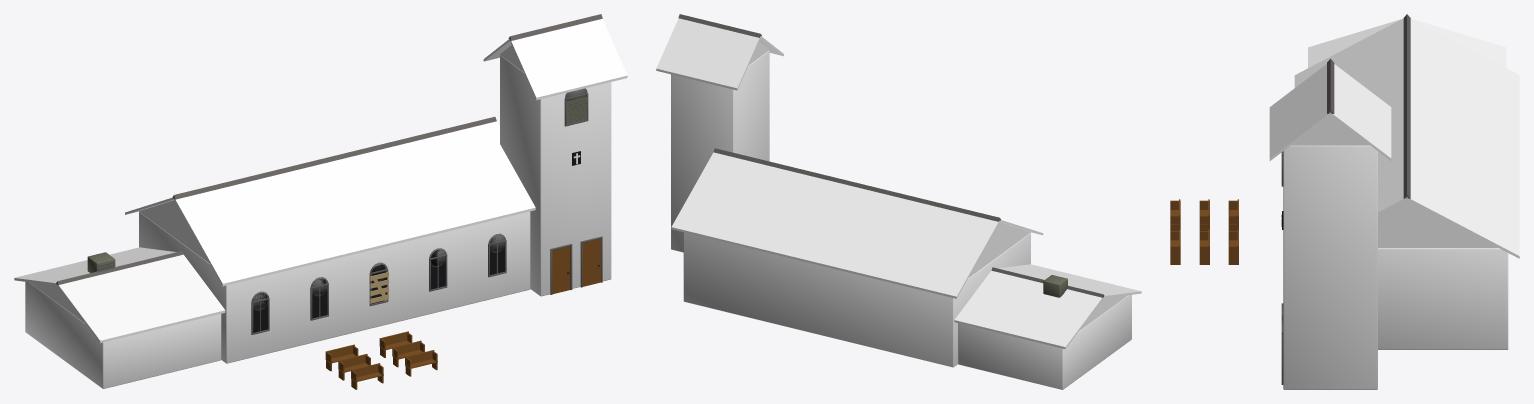
File: bld_church.glb
3 views of the same model, side by side, from view 1: azimuth 30°, elevation 25°; view 2: azimuth 150°, elevation 25°; view 3: azimuth 270°, elevation 25° (orthographic). The views are drawn at different scales.
Parts seen in each view (by area): view 1: ch_roof_front, ch_nave, ch_tower, ch_hall, ch_hroof_front, ch_tcap_front, ch_roof_cap, ch_hroof_back, ch_roof_gable, ch_door0, ch_door1, ch_hroof_cap (+2 smaller); view 2: ch_roof_back, ch_nave, ch_tower, ch_hall, ch_hroof_back, ch_tcap_back, ch_roof_cap, ch_hroof_front, ch_roof_gable, ch_cool, ch_tcap_cap; view 3: ch_tower, ch_roof_back, ch_nave, ch_roof_front, ch_roof_gable, ch_tcap_front, ch_tcap_back, ch_roof_cap, ch_tcap_gable, ch_hroof_back, ch_hroof_front, ch_tcap_cap.
Boxes of the visible parts, x1,y1,x2,y2 form: ch_roof_front: (174, 121, 535, 286); ch_nave: (139, 211, 530, 363); ch_tower: (500, 55, 611, 296); ch_hall: (25, 282, 221, 388); ch_hroof_front: (57, 254, 225, 343); ch_tcap_front: (510, 19, 627, 100); ch_roof_cap: (172, 116, 496, 199); ch_hroof_back: (14, 247, 176, 285); ch_roof_gable: (139, 200, 209, 263); ch_door0: (552, 246, 570, 294); ch_door1: (582, 238, 600, 286); ch_hroof_cap: (56, 251, 183, 285); ch_roof_back: (671, 152, 999, 298); ch_nave: (683, 232, 1030, 367); ch_tower: (671, 50, 769, 252); ch_hall: (958, 295, 1131, 389); ch_hroof_back: (954, 270, 1103, 349); ch_tcap_back: (656, 18, 760, 90); ch_roof_cap: (713, 148, 1000, 221); ch_hroof_front: (998, 264, 1141, 298); ch_roof_gable: (968, 222, 1030, 278); ch_cool: (1043, 275, 1067, 297); ch_tcap_cap: (678, 14, 761, 37); ch_tower: (1283, 145, 1377, 389); ch_roof_back: (1407, 18, 1519, 258); ch_nave: (1378, 248, 1508, 349); ch_roof_front: (1294, 18, 1406, 214); ch_roof_gable: (1378, 200, 1498, 248); ch_tcap_front: (1269, 64, 1330, 160); ch_tcap_back: (1330, 64, 1391, 160); ch_roof_cap: (1403, 14, 1410, 198); ch_tcap_gable: (1291, 115, 1369, 145); ch_hroof_back: (1413, 19, 1506, 67); ch_hroof_front: (1308, 19, 1401, 67); ch_tcap_cap: (1327, 58, 1334, 113).
Bounding box in the file's own units: 30.2 × 14.02 × 15.52.
